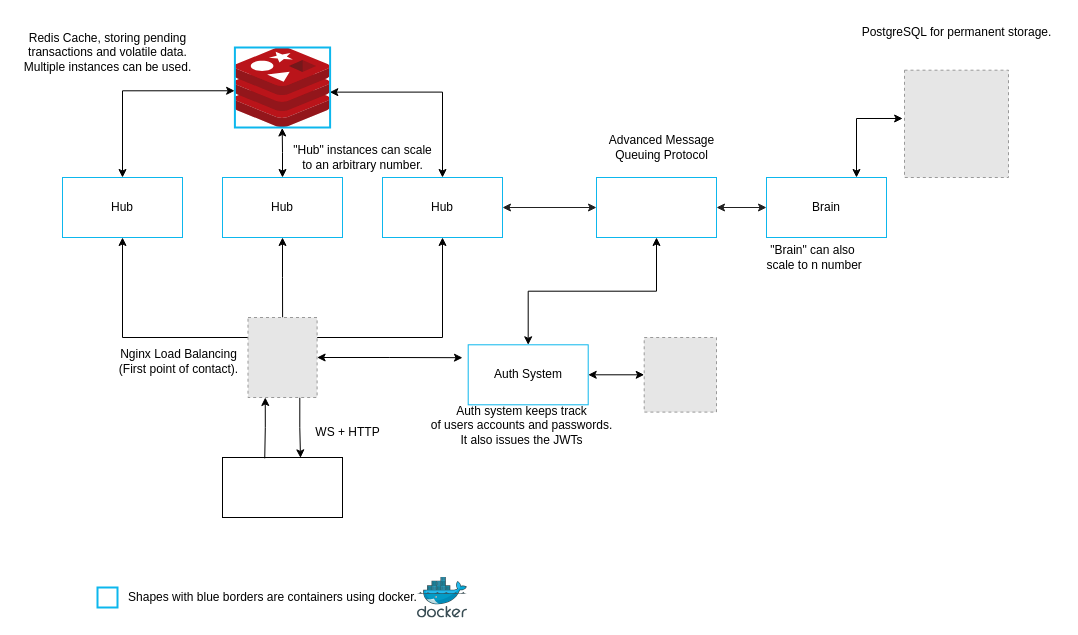
Image size: 1078x635. Some labels were removed from this diagram. Grey dashed boxes stand in for pictures. Here are the shapes that lost their labels. From the top down, the centre of each, then its label:
[656,207]: RabbitMQ Exchange
[282,487]: Clients
